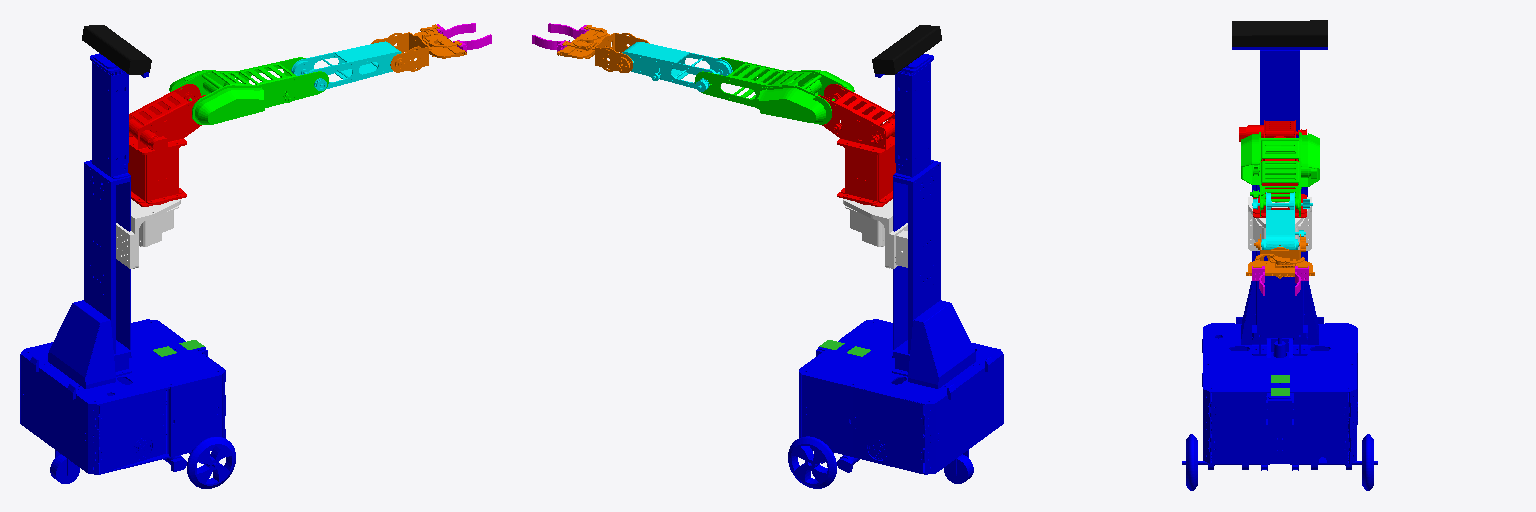
robot.urdf — xm_new_arm:
<robot
  name="xm_new_arm">
  <link
    name="base_link">
    <inertial>
      <origin
        xyz="-0.025031 0.0010714 -0.020475"
        rpy="0 0 0" />
      <mass
        value="19.15" />
      <inertia
        ixx="1.1552"
        ixy="-0.00017181"
        ixz="-0.11913"
        iyy="1.1704"
        iyz="-0.0011776"
        izz="0.41889" />
    </inertial>
    <visual>
      <origin
        xyz="0 0 0"
        rpy="0 0 0" />
      <geometry>
        <mesh
          filename="package://xm_urdf/meshes/new_arm/base_Link.STL" />
      </geometry>
      <material
        name="">
        <color
          rgba="0 0 1 1" />
      </material>
    </visual>
    <collision>
      <origin
        xyz="0 0 0"
        rpy="0 0 0" />
      <geometry>
        <mesh
          filename="package://xm_urdf/meshes/new_arm/base_Link.STL" />
      </geometry>
    </collision>
  </link>

<link name="base_footprint">
    <visual>
      <origin xyz="0 0 0" rpy="0 0 0" />
      <geometry>
        <box size="0.05 0.05 0.001" />
      </geometry>
         <material name="green">
            <color rgba="0.2 0.8 0.2 1.0"/>
         </material>   
    </visual>

    <collision>
      <origin xyz="0 0 0" rpy="0 0 0" />
      <geometry>
       <box size="0.001 0.001 0.001" />
      </geometry>
    </collision>
  </link>

 <joint name="Joint_base" type="fixed">
    <origin xyz="-0.127 0 0 " rpy="0 0 0" />        
    <parent link="base_footprint"/>
    <child link="base_link" />
  </joint>


<link name="laser_link">
    <inertial>
      <mass value="0.0001" />
      <origin xyz="0 0 0" />
      <inertia ixx="0.0001" ixy="0.0" ixz="0.0"
              iyy="0.0001" iyz="0.0" 
              izz="0.0001" />
    </inertial>

    <visual>
      <origin xyz="0 0 0" rpy="0 0 0" />
      <geometry>
        <box size="0.05 0.05 0.001" />
      </geometry>
         <material name="green">
            <color rgba="0.2 0.8 0.2 1.0"/>
         </material>   
    </visual>

    <collision>
      <origin xyz="0 0 0" rpy="0 0 0" />
      <geometry>
       <box size="0.001 0.001 0.001" />
      </geometry>
    </collision>
  </link>

<joint name="Joint_laser" type="fixed">
    <origin xyz="0.210 0 0 " rpy="0 0 0" />        
    <parent link="base_link"/>
    <child link="laser_link" />
  </joint>

  <link
    name="lifting_link">
    <inertial>
      <origin
        xyz="0.079746 0.0045861 0.046635"
        rpy="0 0 0" />
      <mass
        value="3.2502" />
      <inertia
        ixx="0.012912"
        ixy="-0.0011511"
        ixz="0.0047012"
        iyy="0.016124"
        iyz="-0.00069292"
        izz="0.014971" />
    </inertial>
    <visual>
      <origin
        xyz="0 0 0"
        rpy="0 0 0" />
      <geometry>
        <mesh
          filename="package://xm_urdf/meshes/new_arm/lifting_Link.STL" />
      </geometry>
      <material
        name="">
        <color
          rgba="1 1 1 1" />
      </material>
    </visual>
    <collision>
      <origin
        xyz="0 0 0"
        rpy="0 0 0" />
      <geometry>
        <mesh
          filename="package://xm_urdf/meshes/new_arm/lifting_Link.STL" />
      </geometry>
    </collision>
  </link>
  <joint
    name="Joint_lifting"
    type="prismatic">
    <origin
      xyz="-0.04667 -0.00040146 0.36209"
      rpy="1.5277E-33 0 0" />
    <parent
      link="base_link" />
    <child
      link="lifting_link" />
    <axis
      xyz="0 0 1" />
    <limit
      lower="-0.18"
      upper="0.035"
      effort="0"
      velocity="1" />
  </joint>
  <link
    name="waist_link">
    <inertial>
      <origin
        xyz="0.0078211 -0.0018971 0.026162"
        rpy="0 0 0" />
      <mass
        value="2.128" />
      <inertia
        ixx="0.019575"
        ixy="0.00033139"
        ixz="0.0021913"
        iyy="0.021319"
        iyz="-0.00033834"
        izz="0.0086039" />
    </inertial>
    <visual>
      <origin
        xyz="0 0 0"
        rpy="0 0 0" />
      <geometry>
        <mesh
          filename="package://xm_urdf/meshes/new_arm/waist_Link.STL" />
      </geometry>
      <material
        name="">
        <color
          rgba="1 0 0 1" />
      </material>
    </visual>
    <collision>
      <origin
        xyz="0 0 0"
        rpy="0 0 0" />
      <geometry>
        <mesh
          filename="package://xm_urdf/meshes/new_arm/waist_Link.STL" />
      </geometry>
    </collision>
  </link>
  <joint
    name="Joint_waist"
    type="revolute">
    <origin
      xyz="0.136 0 0.195"
      rpy="1.5277E-33 0 0" />
    <parent
      link="lifting_link" />
    <child
      link="waist_link" />
    <axis
      xyz="0 0 1" />
    <limit
      lower="-0.35"
      upper="1.57"
      effort="0"
      velocity="1" />
  </joint>

  <link
    name="big_arm_link">
    <inertial>
      <origin
        xyz="0.12167 -0.0017229 0.0039659"
        rpy="0 0 0" />
      <mass
        value="1.4533" />
      <inertia
        ixx="0.0049424"
        ixy="0.0001091"
        ixz="-0.00034849"
        iyy="0.014673"
        iyz="1.9982E-05"
        izz="0.017937" />
    </inertial>
    <visual>
      <origin
        xyz="0 0 0"
        rpy="0 0 0" />
      <geometry>
        <mesh
          filename="package://xm_urdf/meshes/new_arm/big_arm_Link.STL" />
      </geometry>
      <material
        name="">
        <color
          rgba="0 1 0 1" />
      </material>
    </visual>
    <collision>
       <origin
        xyz="0.15 0.0 0"
        rpy="0 0 0" />
      <geometry>
        <box size="0.37 0.22 0.12"/>
      </geometry>
    </collision>
  </link>

  <joint
    name="Joint_big_arm"
    type="revolute">
    <origin
      xyz="0.13033 0 0.15227"
      rpy="1.5277E-33 0 0" />
    <parent
      link="waist_link" />
    <child
      link="big_arm_link" />
    <axis
      xyz="0 -1 0" />
    <limit
      lower="-1.57"
      upper="1.57"
      effort="0"
      velocity="1" />
  </joint>




  <link
    name="fore_arm_link">
    <inertial>
      <origin
        xyz="0.081839 0.00083371 -0.0004491"
        rpy="0 0 0" />
      <mass
        value="0.64944" />
      <inertia
        ixx="0.0011127"
        ixy="0.00019222"
        ixz="-2.2734E-05"
        iyy="0.0062951"
        iyz="-1.5225E-05"
        izz="0.0070385" />
    </inertial>
    <visual>
      <origin
        xyz="0 0 0"
        rpy="0 0 0" />
      <geometry>
        <mesh
          filename="package://xm_urdf/meshes/new_arm/fore_arm_Link.STL" />
      </geometry>
      <material
        name="">
        <color
          rgba="0 1 1 1" />
      </material>
    </visual>
    <collision>
      <origin
        xyz="0.10 0.0 0"
        rpy="0 0 0" />
      <geometry>
        <box size="0.265 0.175 0.07"/>
      </geometry>
    </collision>
  </link>
  <joint
    name="Joint_fore_arm"
    type="revolute">
    <origin
      xyz="0.35 0.0005 0"
      rpy="1.5277E-33 0 0" />
    <parent
      link="big_arm_link" />
    <child
      link="fore_arm_link" />
    <axis
      xyz="0 -1 0" />
    <limit
      lower="-2.1"
      upper="2.1"
      effort="0"
      velocity="1" />
  </joint>
  <link
    name="wrist_link">
    <inertial>
      <origin
        xyz="0.093766 0.0035055 -5.461E-05"
        rpy="0 0 0" />
      <mass
        value="0.57359" />
      <inertia
        ixx="0.0011167"
        ixy="8.0506E-06"
        ixz="4.467E-06"
        iyy="0.0023088"
        iyz="-8.3733E-06"
        izz="0.0032573" />
    </inertial>
    <visual>
      <origin
        xyz="0 0 0"
        rpy="0 0 0" />
      <geometry>
        <mesh
          filename="package://xm_urdf/meshes/new_arm/wrist_Link.STL" />
      </geometry>
      <material
        name="">
        <color
          rgba="1 0.5 0 1" />
      </material>
    </visual>
    <collision>
      <origin
        xyz="0.09 0.0 0"
        rpy="0 0 0" />
      <geometry>
        <box size="0.21 0.18 0.07"/>
      </geometry>
    </collision>
  </link>
  <joint
    name="Joint_wrist"
    type="revolute">
    <origin
      xyz="0.25 0 0"
      rpy="1.5277E-33 0 0" />
    <parent
      link="fore_arm_link" />
    <child
      link="wrist_link" />
    <axis
      xyz="0 -1 0" />
    <limit
      lower="-2.2"
      upper="2.2"
      effort="0"
      velocity="1" />
  </joint>
    <!--please donnot use the default collsion   -->
  <link
    name="left_finger_link">
    <inertial>
      <origin
        xyz="0.017988 0.0076592 0.0010608"
        rpy="0 0 0" />
      <mass
        value="0.024649" />
      <inertia
        ixx="3.9318E-06"
        ixy="-3.3434E-06"
        ixz="-1.874E-06"
        iyy="2.8171E-05"
        iyz="2.8929E-07"
        izz="2.8429E-05" />
    </inertial>
    <visual>
      <origin
        xyz="0 0 0"
        rpy="0 0 0" />
      <geometry>
        <mesh
          filename="package://xm_urdf/meshes/new_arm/left_finger_Link.STL" />
      </geometry>
      <material
        name="">
        <color
          rgba="1 0 1 1" />
      </material>
    </visual>
    <collision>
      <origin
        xyz="0.08 0.014 0"
        rpy="0 0 0" />
      <geometry>
        <box size="0.17 0.04 0.07"/>
      </geometry>
    </collision>
  </link>
  <joint
    name="Joint_left_finger"
    type="prismatic">
    <origin
      xyz="0.196 0.044912 0.0015"
      rpy="1.5277E-33 0 0" />
    <parent
      link="wrist_link" />
    <child
      link="left_finger_link" />
    <axis
      xyz="0 1 0" />
    <limit
      lower="-0.03"
      upper="0.0"
      effort="0"
      velocity="0" />
  </joint>
  <link
    name="right_finger_link">
    <inertial>
      <origin
        xyz="0.017988 -0.0076592 0.0010603"
        rpy="0 0 0" />
      <mass
        value="0.024649" />
      <inertia
        ixx="3.9319E-06"
        ixy="3.3434E-06"
        ixz="-1.8739E-06"
        iyy="2.8171E-05"
        iyz="-2.8954E-07"
        izz="2.8429E-05" />
    </inertial>
    <visual>
      <origin
        xyz="0 0 0"
        rpy="0 0 0" />
      <geometry>
        <mesh
          filename="package://xm_urdf/meshes/new_arm/right_finger_Link.STL" />
      </geometry>
      <material
        name="">
        <color
          rgba="1 0 1 1" />
      </material>
    </visual>
    <collision>
      <origin
          xyz="0.08 -0.014 0"
          rpy="0 0 0" />
        <geometry>
          <box size="0.17 0.04 0.07"/>
        </geometry>
    </collision>
  </link>
  <joint
    name="Joint_right_finger"
    type="prismatic">
    <origin
      xyz="0.196 -0.044912 0.0015"
      rpy="1.5277E-33 0 0" />
    <parent
      link="wrist_link" />
    <child
      link="right_finger_link" />
    <axis
      xyz="0 -1 0" />
    <limit
      lower="-0.03"
      upper="0.0"
      effort="0"
      velocity="0" />
  </joint>

   <joint name="Joint_gripper" type="fixed">
    <origin rpy="0 0 0" xyz="0.250 0 0"/>
    <parent link="wrist_link"/>
    <child link="gripper_link"/>
  </joint>

  <link name="gripper_link">
    <visual>
      <origin rpy="0 0 0" xyz="-0.05 0 0"/>
      <geometry>
        <box size="0.001 0.001 0.001"/>
      </geometry>
    </visual>
    <collision>
      <origin rpy="0 0 0" xyz="-0.05 0 0"/>
      <geometry>
        <box size="0.001 0.001 0.001"/>
      </geometry>
    </collision>
    <!--inertial>
         <mass value="0.0012" />
         <origin xyz="0 0 0"/>
         <inertia ixx="2e-8" ixy="0.0" ixz="0.0"
          iyy="2e-8" iyz="0.0"
          izz="2e-8" />
      </inertial -->
  </link>

   <link
    name="camera_link">
    <inertial>
      <origin
        xyz="-0.03301 5.5511E-17 0.006494"
        rpy="0 0 0" />
      <mass
        value="0.71057" />
      <inertia
        ixx="0.0038309"
        ixy="8.2654E-19"
        ixz="-2.6881E-05"
        iyy="0.00036848"
        iyz="4.3742E-19"
        izz="0.0039756" />
    </inertial>
    <visual>
      <origin
        xyz="0 0 0"
        rpy=" 0  0 0" />
      <geometry>
        <mesh
          filename="package://xm_urdf/meshes/new_arm/kinect_Link.STL" />
      </geometry>
      <material
        name="">
        <color
          rgba="0.1 0.1 0.1 1" />
      </material>
    </visual>
    <collision>
      <origin
        xyz="0 0 0"
        rpy="0 0 0" />
      <geometry>
        <mesh
          filename="package://xm_urdf/meshes/new_arm/kinect_Link.STL" />          
      </geometry>
    </collision>
  </link>

  <joint
    name="Joint_camera"
    type="fixed">
    <origin
      xyz="0.011224 -0.00040146 0.91721"
      rpy="1.57 3.14 1.57" />
    <parent
      link="base_link" />
    <child
      link="camera_link" />
    <axis
      xyz="0 -1 0" />
 
  </joint>
</robot>

--- Render facts (derived) ---
The picture shows the robot from 3 angles, left to right: view 1: azimuth 30°, elevation 25°; view 2: azimuth 150°, elevation 25°; view 3: azimuth 270°, elevation 25°; orthographic projection.
Model xm_new_arm with 12 links and 11 joints (4 revolute, 3 prismatic, 4 fixed), rooted at base_footprint, posed every joint at zero.
Links seen in each view (by area): view 1: base_link, waist_link, big_arm_link, fore_arm_link, lifting_link, wrist_link, camera_link; view 2: base_link, waist_link, big_arm_link, fore_arm_link, lifting_link, wrist_link, camera_link; view 3: base_link, big_arm_link, camera_link, fore_arm_link, waist_link, wrist_link, lifting_link.
Link boxes in pixels (x1,y1,x2,y2): base_link: (20, 53, 235, 488); waist_link: (128, 84, 205, 206); big_arm_link: (169, 57, 328, 124); fore_arm_link: (291, 41, 401, 90); lifting_link: (116, 199, 180, 268); wrist_link: (371, 24, 466, 72); camera_link: (82, 25, 151, 74); base_link: (788, 54, 1003, 488); waist_link: (818, 84, 895, 206); big_arm_link: (695, 57, 854, 124); fore_arm_link: (622, 42, 732, 91); lifting_link: (843, 199, 907, 268); wrist_link: (557, 25, 649, 72); camera_link: (872, 25, 941, 74); base_link: (1182, 47, 1377, 490); big_arm_link: (1241, 132, 1319, 216); camera_link: (1232, 20, 1327, 46); fore_arm_link: (1252, 192, 1312, 249); waist_link: (1239, 120, 1306, 217); wrist_link: (1246, 234, 1314, 278); lifting_link: (1248, 197, 1311, 250).
Bounding box of the posed robot: 1.33 × 0.512 × 1.26 m (x, y, z).
Meshes: 9 distinct files referenced, 9 mesh visuals loaded (9 binary STL).